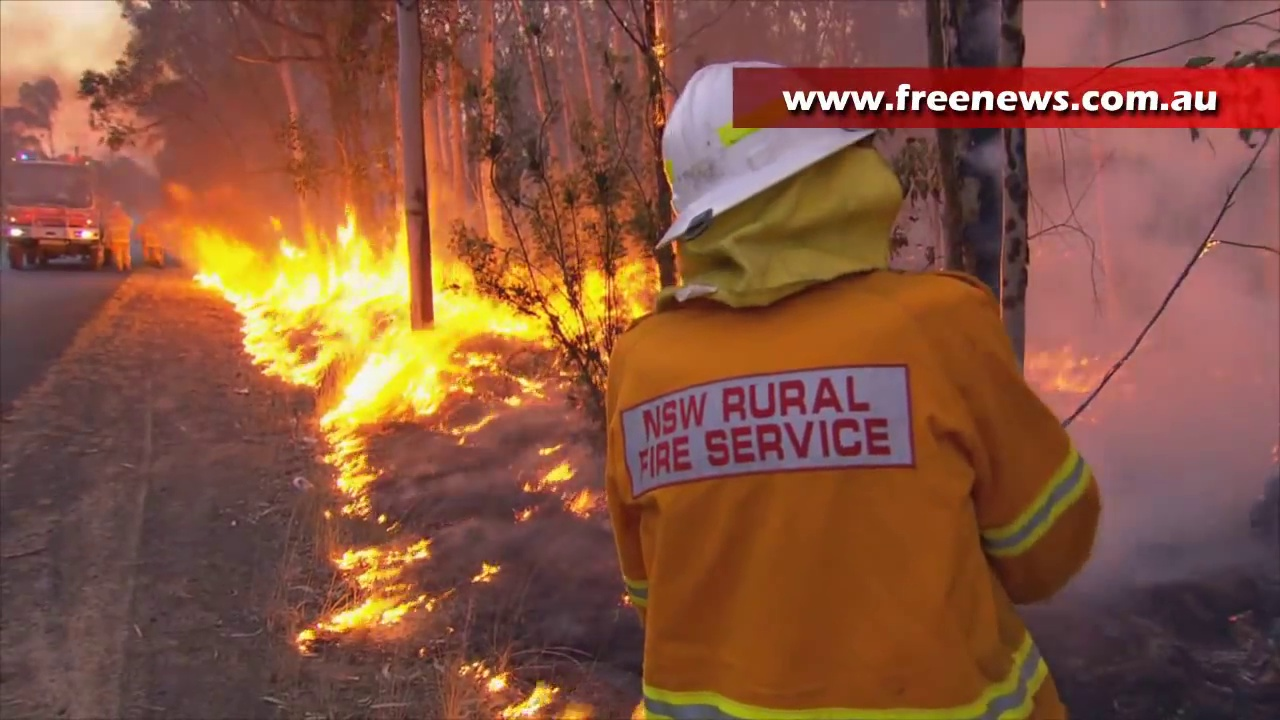fire: (207, 226, 655, 455), (295, 542, 440, 658), (498, 686, 546, 720), (543, 459, 573, 482)
